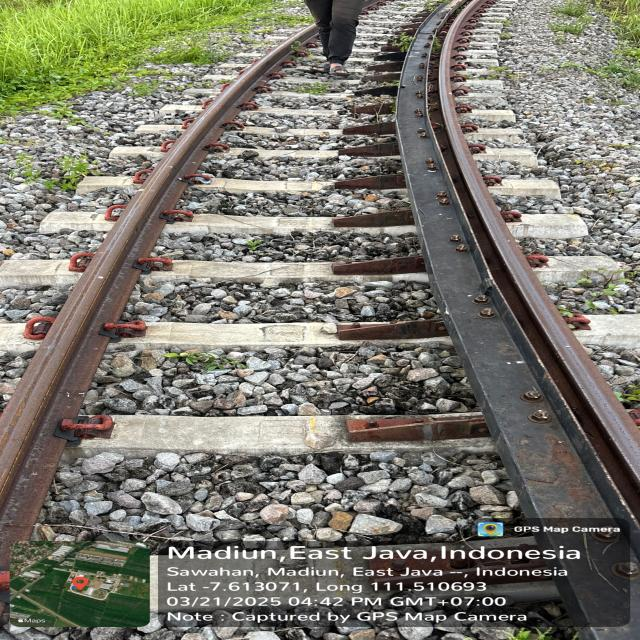rail-detection: (0, 25, 316, 555), (396, 0, 640, 628)
